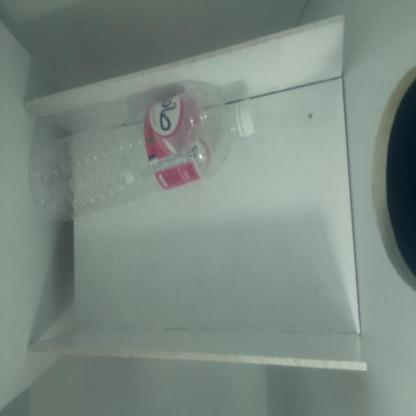Plastic Bottle: (31, 94, 257, 219)
